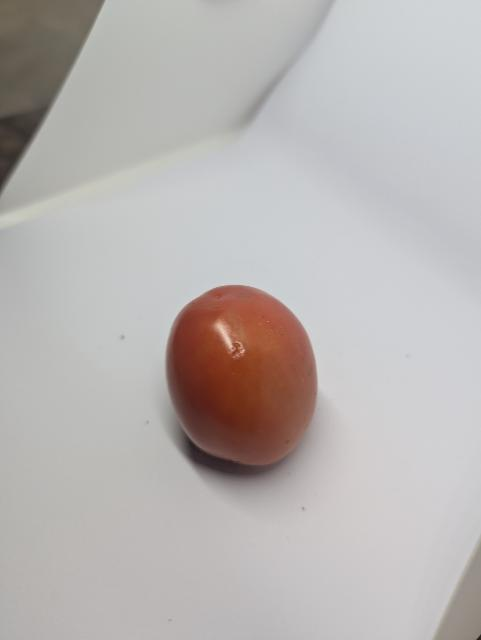red: (162, 281, 324, 470)
